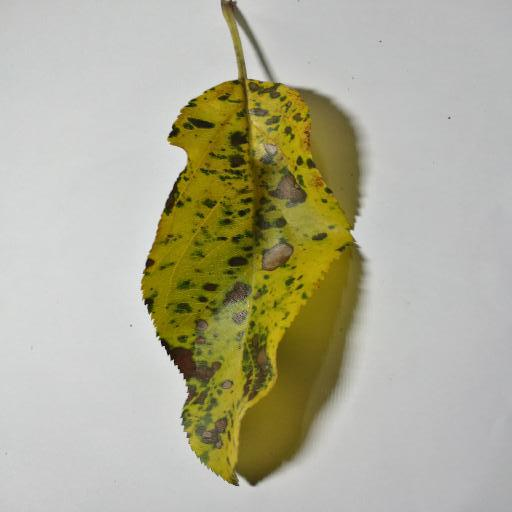Brown_Spot: (247, 85, 310, 135), (248, 347, 273, 395), (271, 180, 310, 207), (253, 240, 284, 269), (172, 342, 201, 367), (207, 411, 223, 444), (225, 284, 250, 305)
